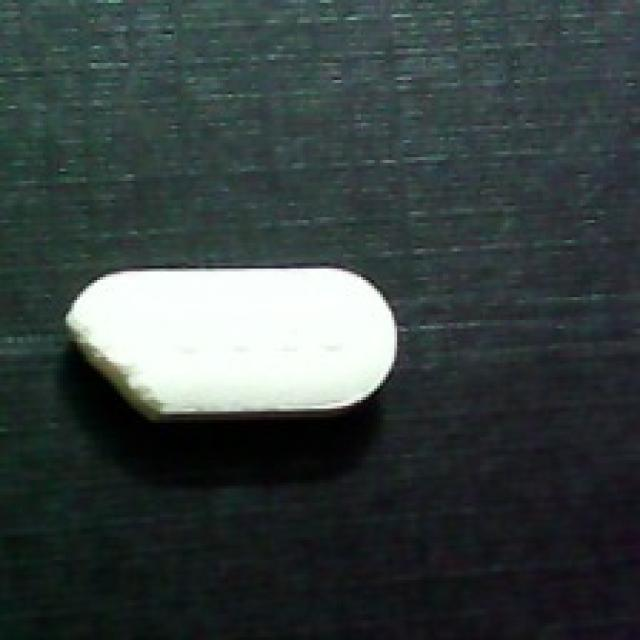defected: (51, 263, 406, 426)
